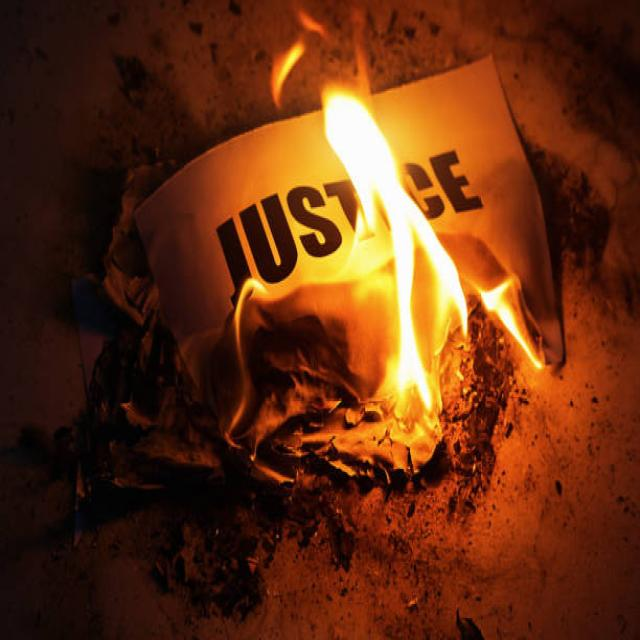fire: (397, 183, 468, 337), (324, 89, 396, 231), (394, 225, 431, 410), (225, 278, 267, 436), (498, 312, 543, 370), (271, 41, 305, 107)
